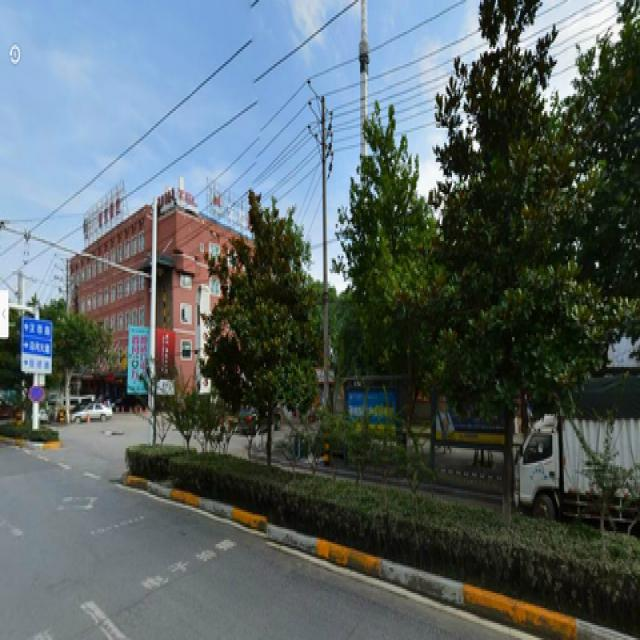magn: (440, 4, 580, 510)
